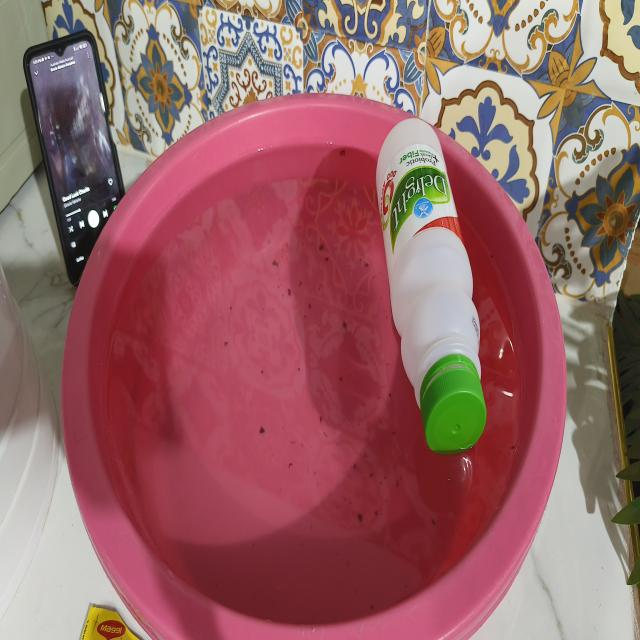Plastic Bottle: (354, 80, 502, 494)
